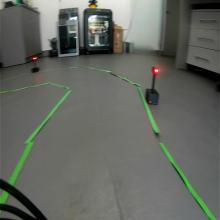red: (151, 66, 159, 75)
